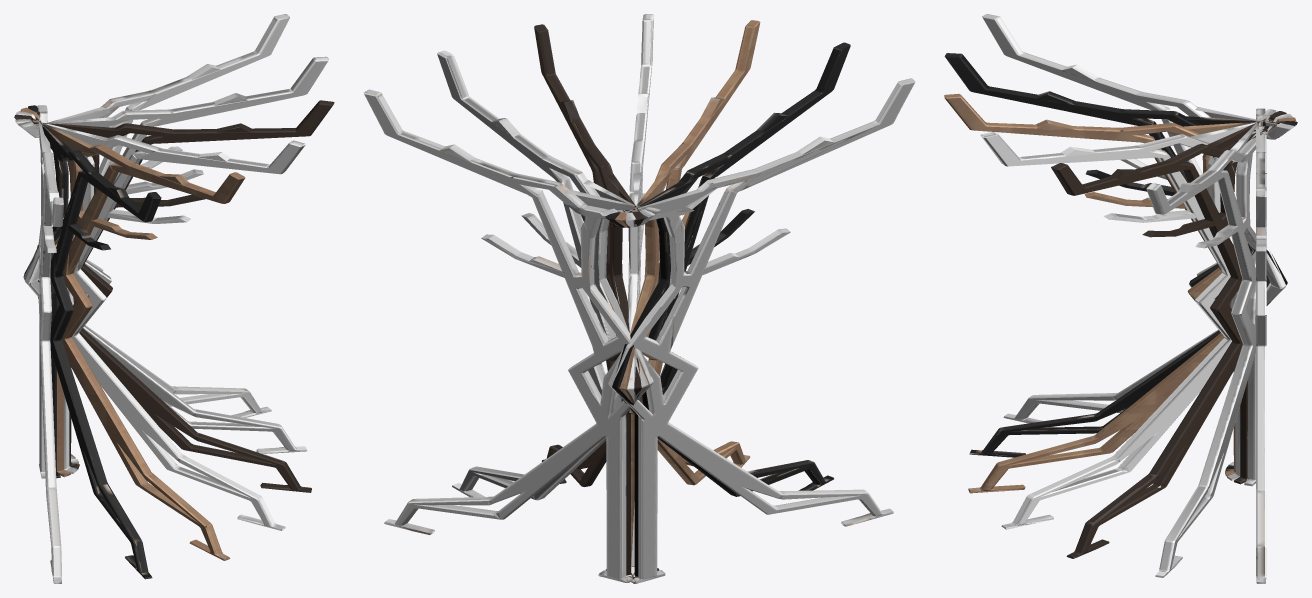
The model's file is 5_d4585471-281f-4cd5-b094-2091dbc20107.obj.
3 views of the same model, side by side, from view 1: azimuth 30°, elevation 25°; view 2: azimuth 150°, elevation 25°; view 3: azimuth 270°, elevation 25° (orthographic). The views are drawn at different scales.
Size of the model in its own units: 0.55 by 0.5564 by 0.449.
1 material, 1 textured.
